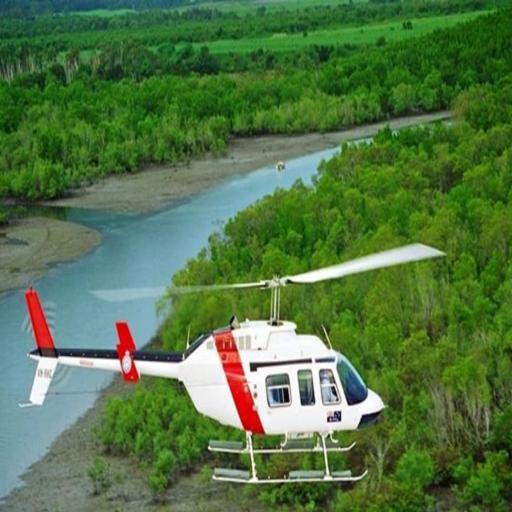helicopter: (18, 235, 444, 492)
